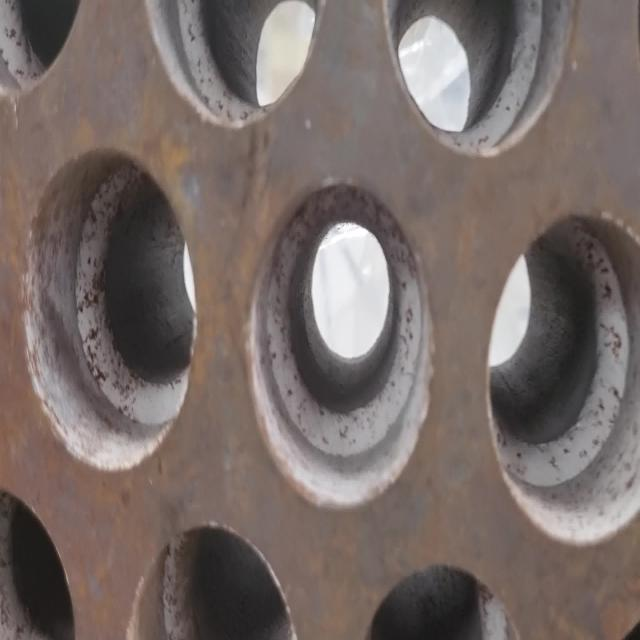Hole: (246, 179, 433, 511), (22, 145, 198, 472), (487, 209, 636, 548), (383, 0, 574, 158), (139, 1, 327, 129), (125, 521, 305, 639)
